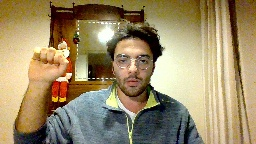Pugno: (26, 44, 70, 84)
